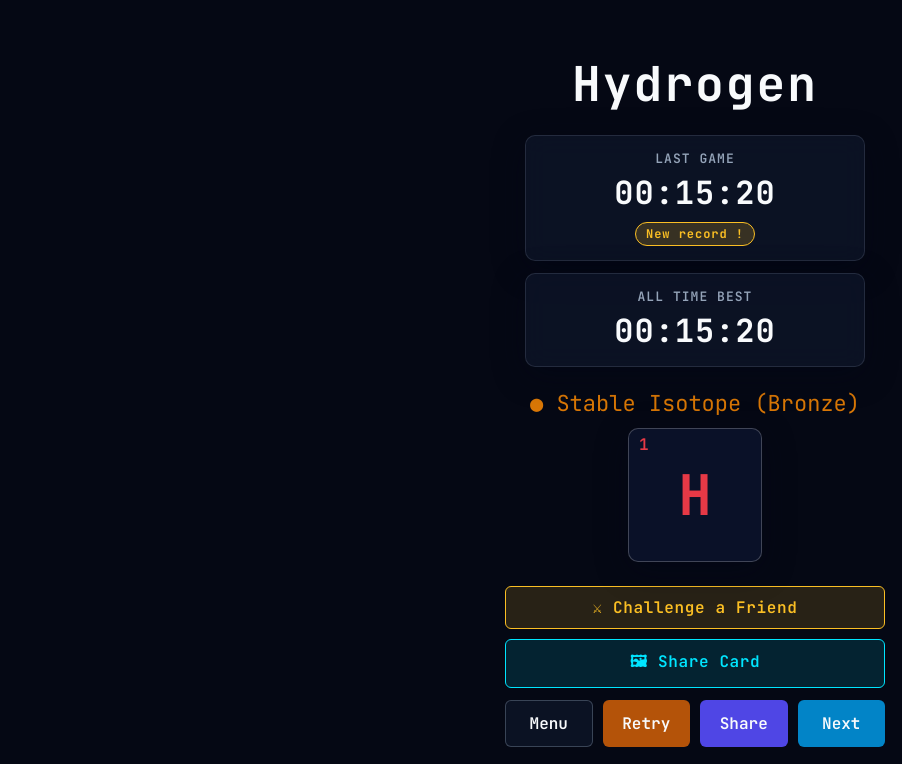
LevelFinished component › navigates to next level on Next click
What coordinates should you click on to do the following:
click the button "Next"
I would click on:
 (841, 723)
Its box is [798,700,885,746].
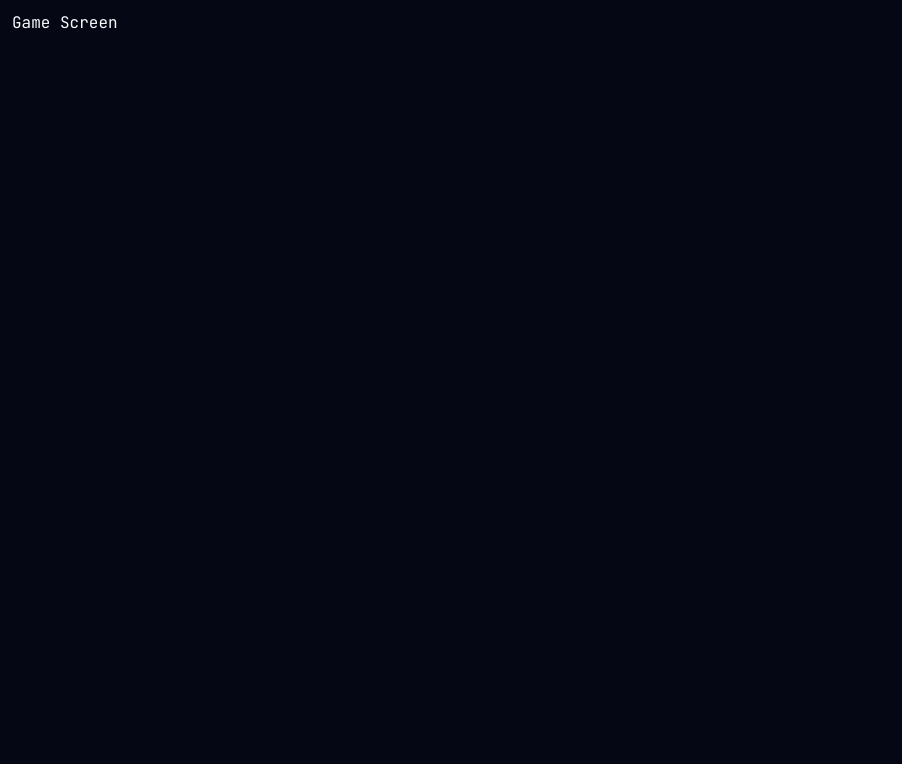
Check: the text "Game Screen" is shown, box [12,12,118,33]
